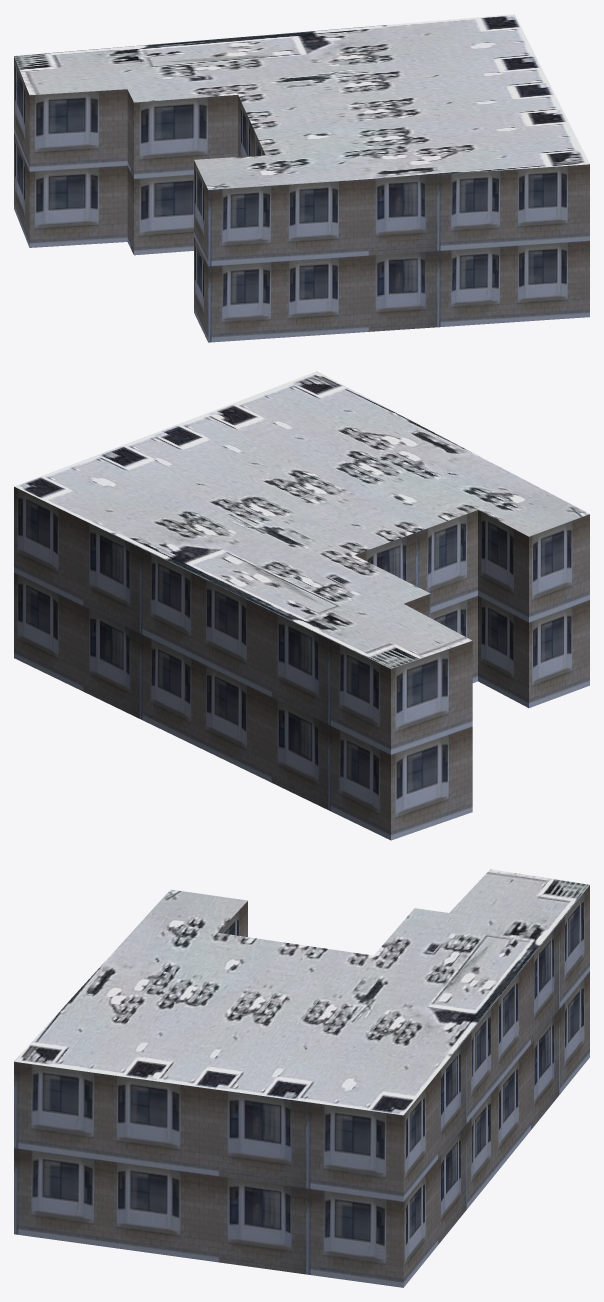
Rendered from ResTex__378.fbx.
3 views of the same model, one above another, from view 1: azimuth 30°, elevation 25°; view 2: azimuth 150°, elevation 25°; view 3: azimuth 270°, elevation 25° (orthographic). The views are drawn at different scales.
Parts seen in each view (by area): view 1: CityEngineMaterial_3_m, CityEngineMaterial_4_m; view 2: CityEngineMaterial_3_m, CityEngineMaterial_4_m; view 3: CityEngineMaterial_3_m, CityEngineMaterial_4_m.
Part boxes in pixels (bbox=[...]): CityEngineMaterial_3_m: bbox=[14, 56, 589, 342]; CityEngineMaterial_4_m: bbox=[14, 14, 589, 189]; CityEngineMaterial_3_m: bbox=[14, 486, 589, 840]; CityEngineMaterial_4_m: bbox=[14, 371, 589, 668]; CityEngineMaterial_3_m: bbox=[14, 885, 589, 1287]; CityEngineMaterial_4_m: bbox=[14, 869, 589, 1115].
Bounding box in the file's own units: 18.37 × 6 × 18.15.
Materials: 2 (2 with a texture image).
